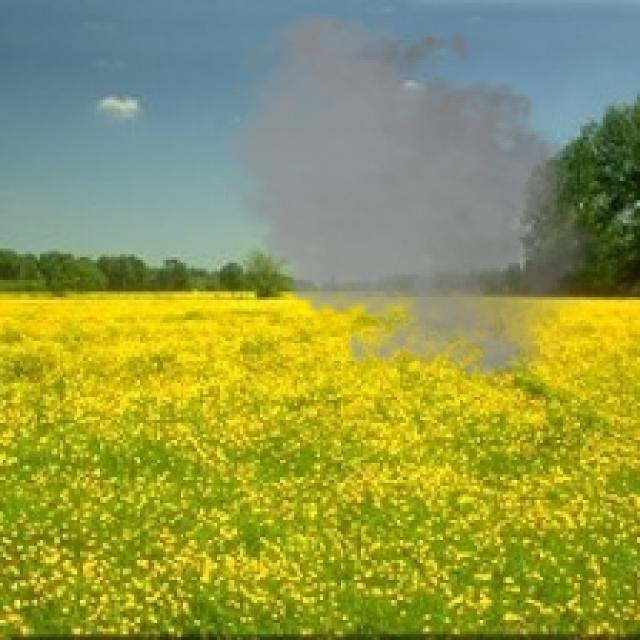Smoke: (214, 6, 617, 392)
